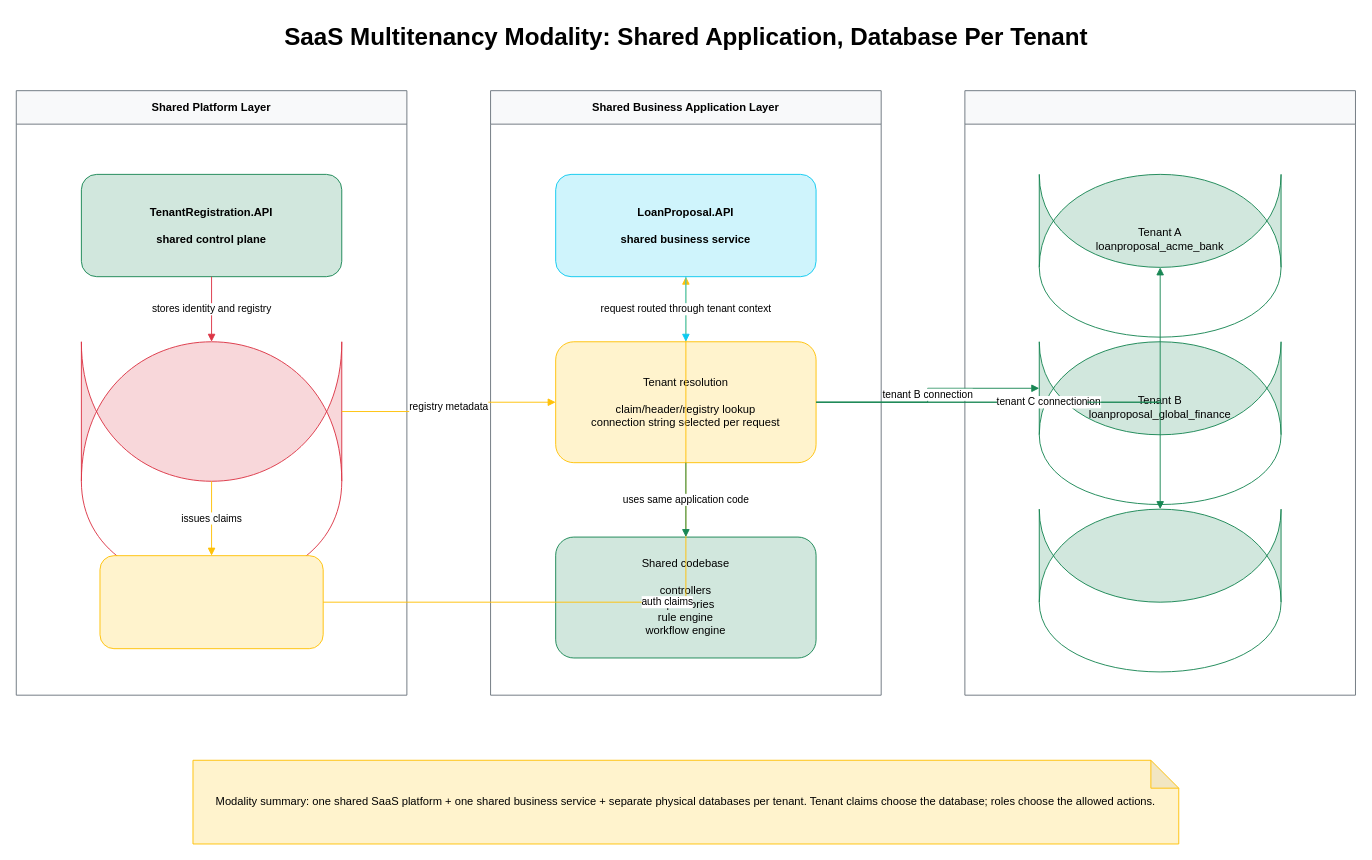
Image size: 1372x860. Some labels were removed from this diagram. The shapes that lost their labels are listed below. From the top down, each one's box as (x1, y1, x2, y2) in pixels, then its label:
(80, 341, 342, 481): tenantregistration_platform tenant identity users + roles service registry
(964, 90, 1355, 695): Isolated Tenant Data Layer
(1038, 508, 1281, 602): Tenant C loanproposal_test_tenant_one
(99, 555, 323, 649): JWT claims tenant_id tenant_slug roles
